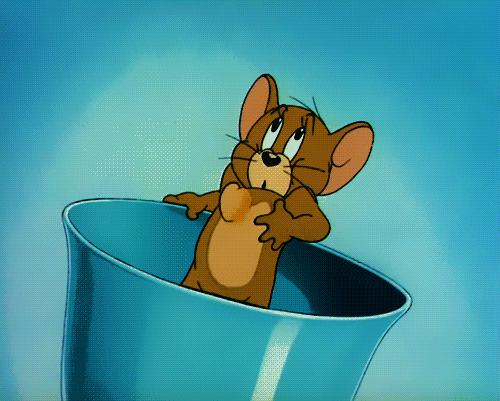jerry: (162, 73, 376, 311)
